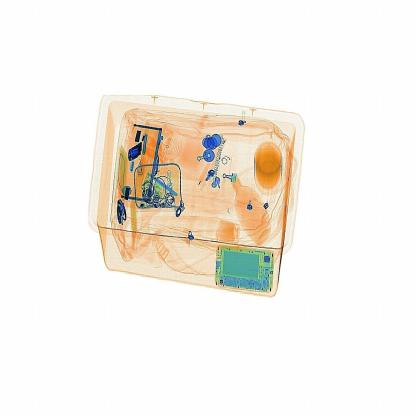knife: (117, 135, 156, 167)
